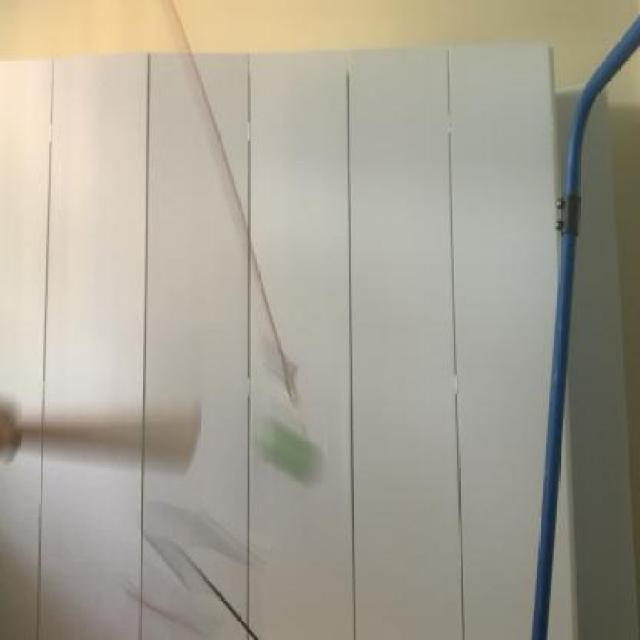baseball: (250, 414, 332, 492)
